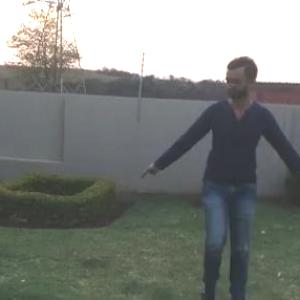land: (80, 24, 299, 299)
